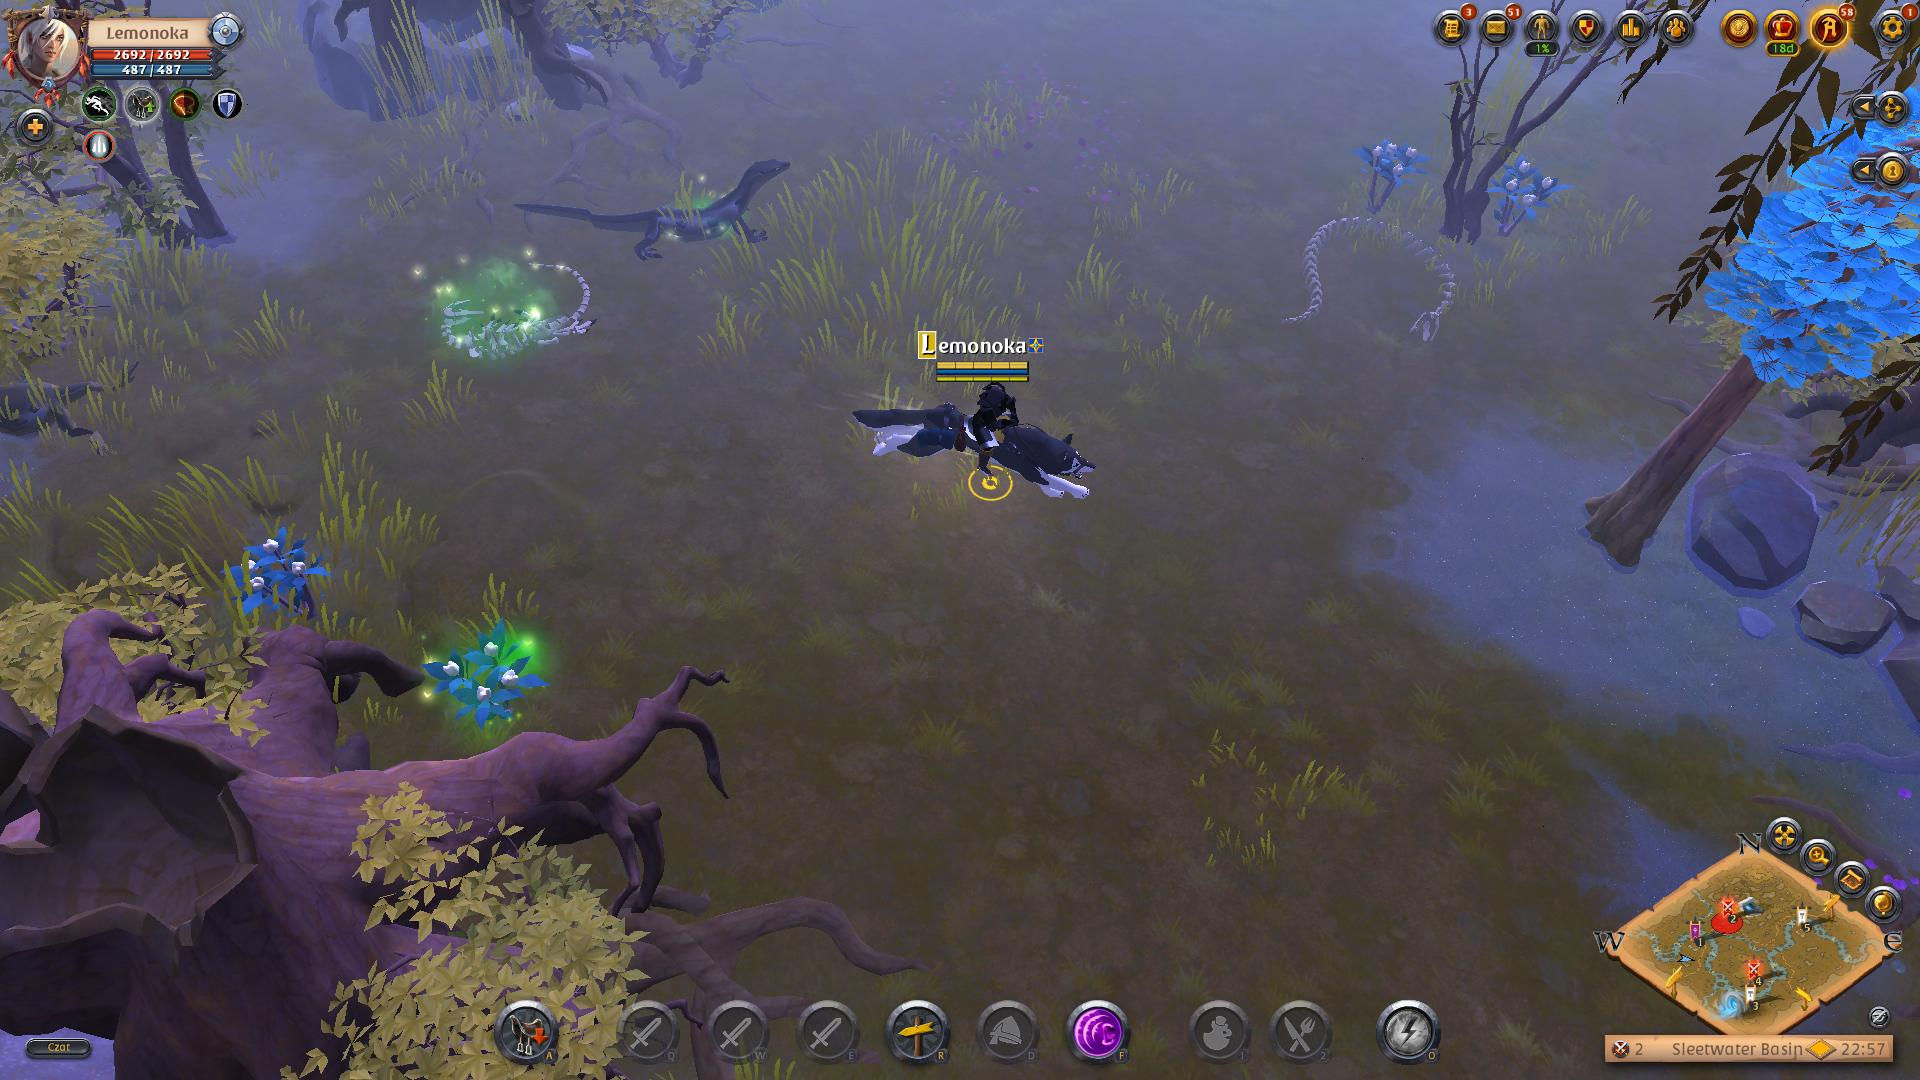fiber tier 4: (427, 620, 543, 731), (227, 524, 327, 621), (1489, 157, 1564, 245), (1353, 137, 1428, 219)
